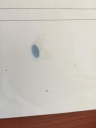Majezik: (31, 43, 40, 58)
